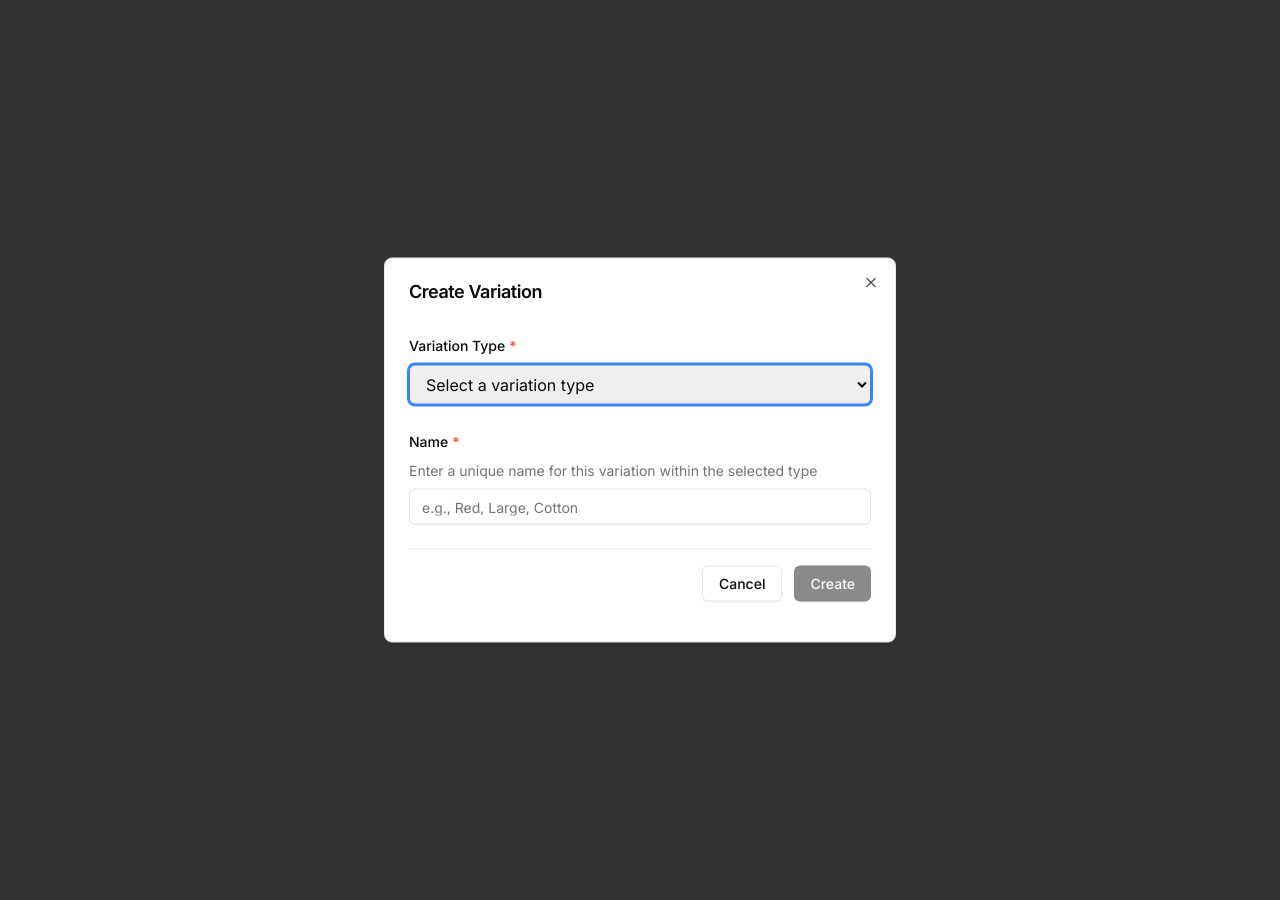
Test: VariationForm › validates required fields
// Select a variation type first to enable the submit button
Select "Color" in the dropdown labelled "Variation Type*" at (640, 384), box [409, 364, 871, 404]
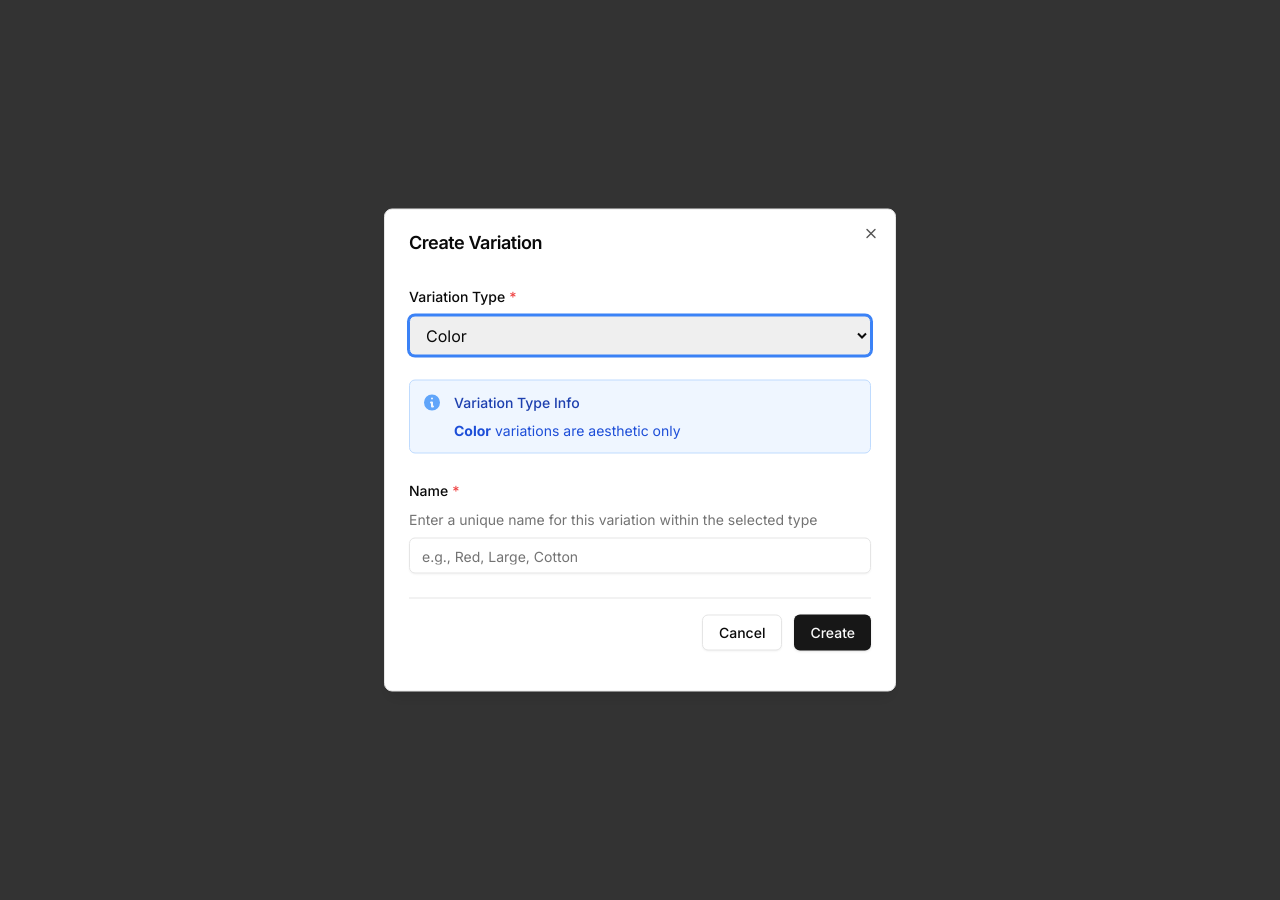
// Clear the name field to test validation
Clear the field labelled "Name*" at (640, 556), box [409, 538, 871, 574]
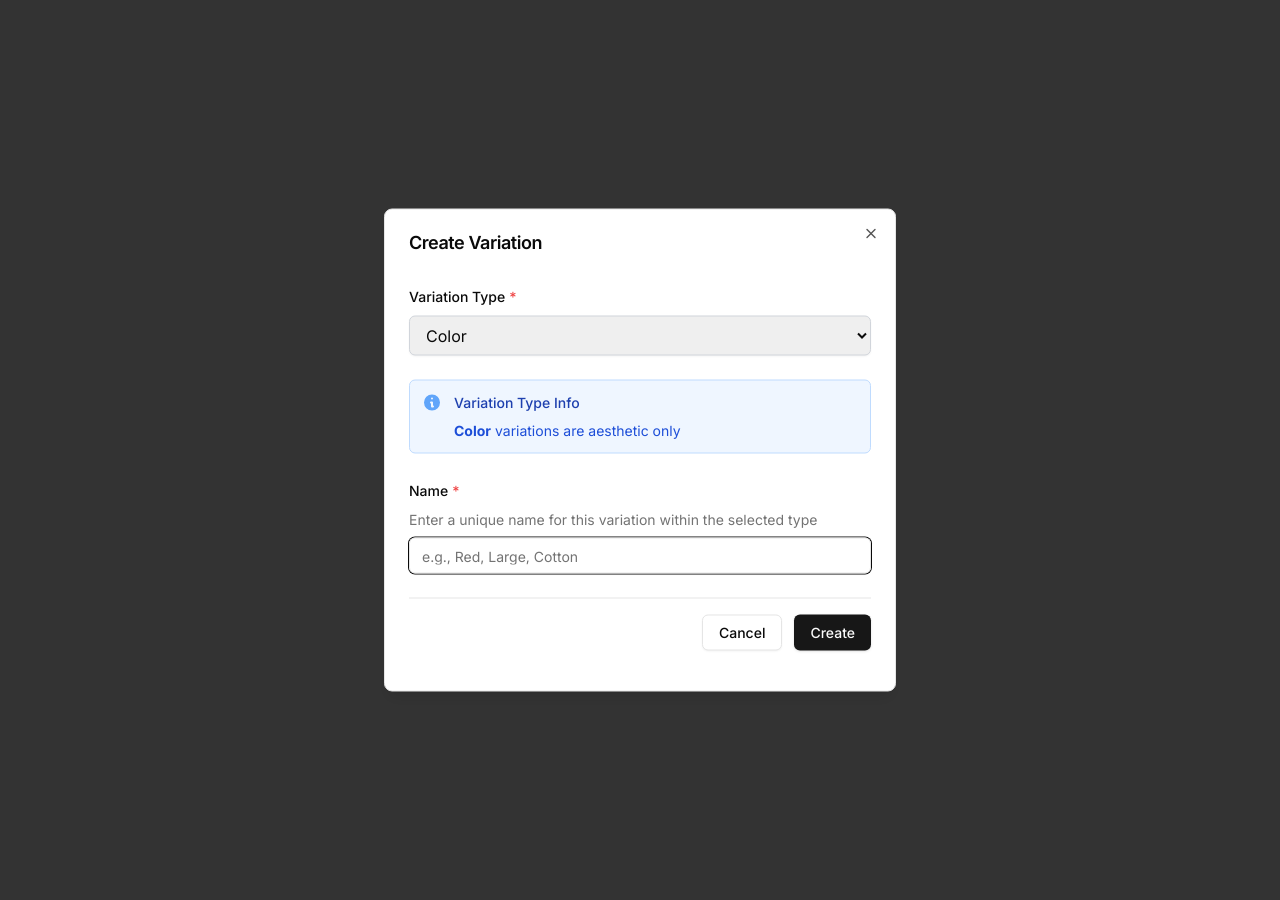
Click the button "Create" at (833, 632), box [794, 614, 871, 650]
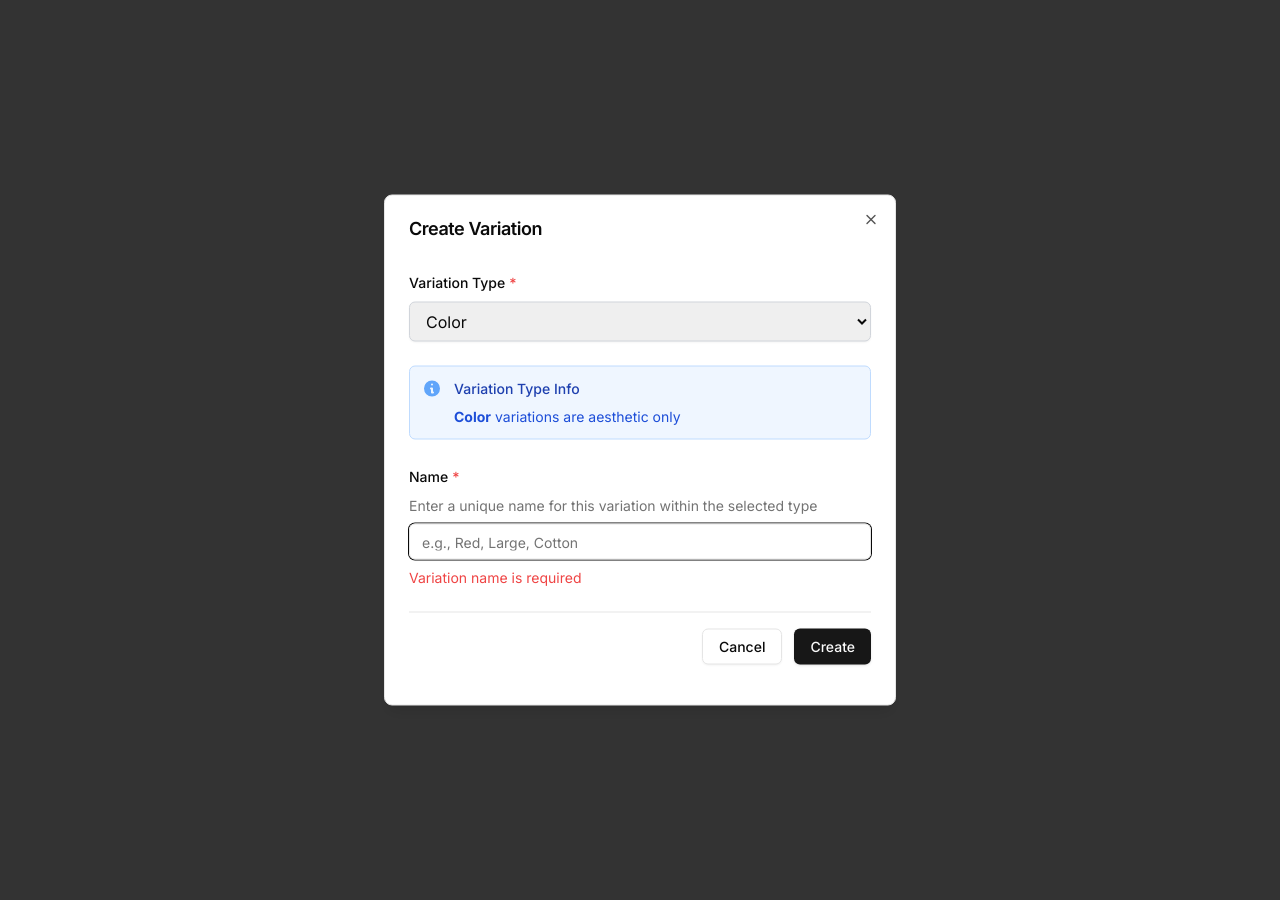
Check: the text "Variation name is required" is shown, box [409, 568, 582, 586]
